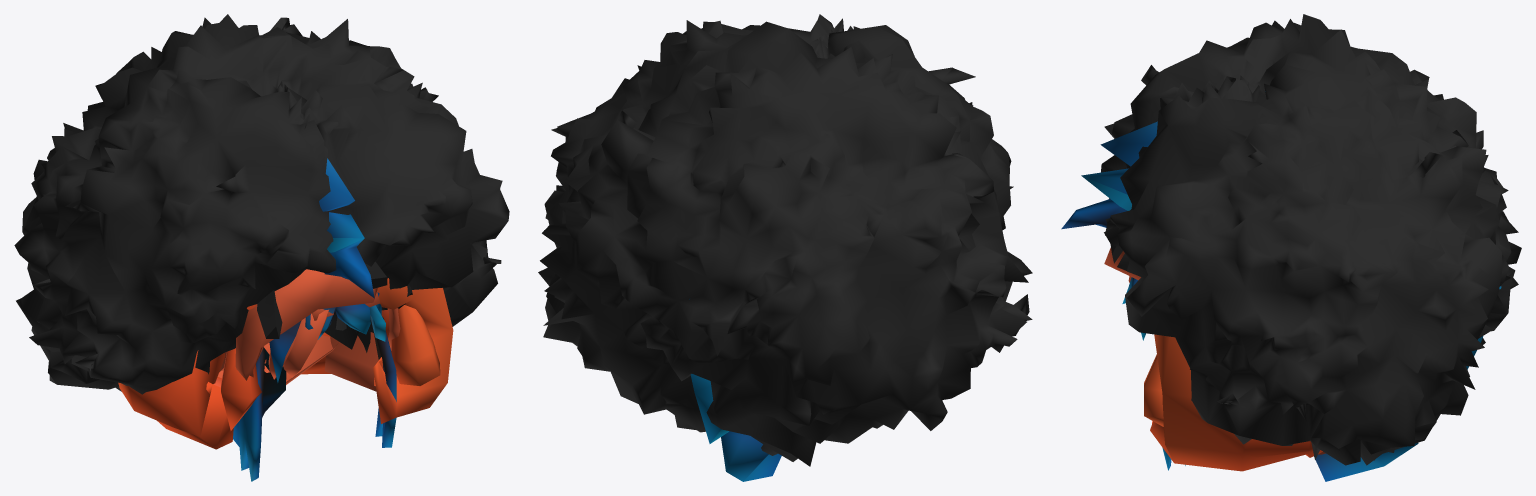
The model's file is HairImport.glb.
3 views of the same model, side by side, from view 1: azimuth 30°, elevation 25°; view 2: azimuth 150°, elevation 25°; view 3: azimuth 270°, elevation 25° (orthographic).
Visible parts, largest first — view 1: Hair_Afro, Hair_BobSideTufts, Hair_MedMohawk, Hair_ShortSideShaved, Hair_MedMulletnBangs, Hair_ShortTextured, Hair_Short90sHeartthrob; view 2: Hair_Afro, Hair_MedMohawk; view 3: Hair_Afro, Hair_BobSideTufts, Hair_MedMohawk.
Boxes of the visible parts, <box> form: Hair_Afro: <box>14,14,509,394</box>; Hair_BobSideTufts: <box>118,278,453,449</box>; Hair_MedMohawk: <box>233,158,396,481</box>; Hair_ShortSideShaved: <box>217,269,377,384</box>; Hair_MedMulletnBangs: <box>312,291,382,391</box>; Hair_ShortTextured: <box>257,261,412,349</box>; Hair_Short90sHeartthrob: <box>221,308,400,379</box>; Hair_Afro: <box>538,14,1032,466</box>; Hair_MedMohawk: <box>689,299,781,481</box>; Hair_Afro: <box>1101,14,1521,465</box>; Hair_BobSideTufts: <box>1144,334,1322,471</box>; Hair_MedMohawk: <box>1061,121,1501,481</box>.
Size of the model in its own units: 1.49 by 1.36 by 1.31.
